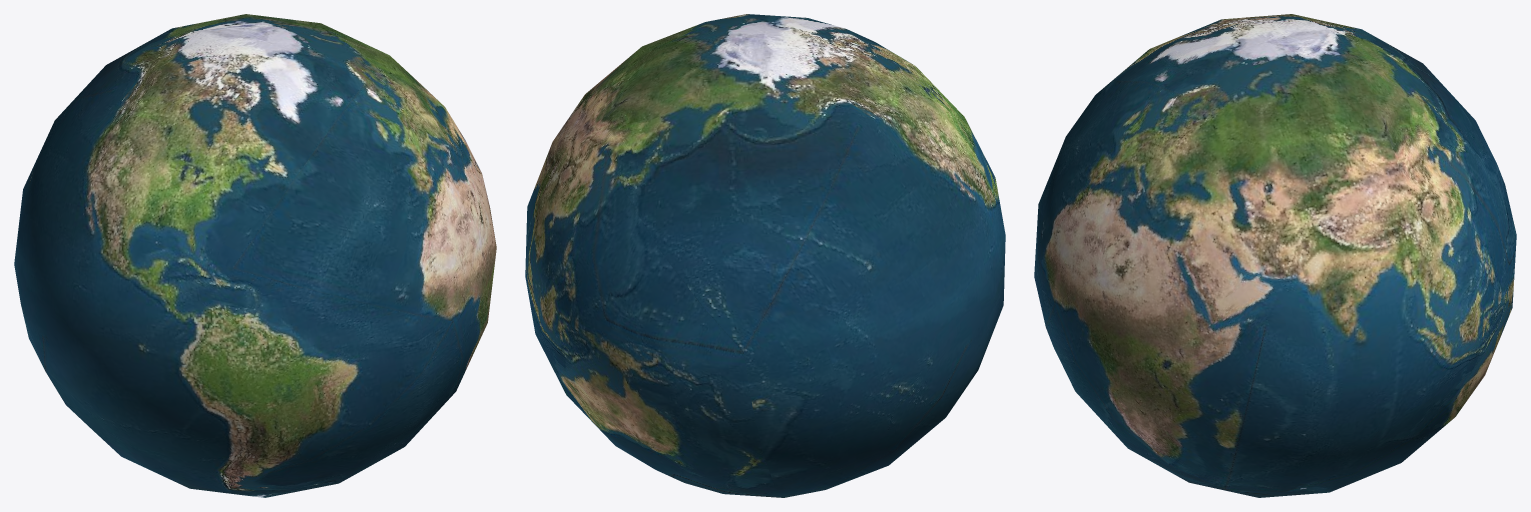
The model's file is globe.dae.
3 views of the same model, side by side, from view 1: azimuth 30°, elevation 25°; view 2: azimuth 150°, elevation 25°; view 3: azimuth 270°, elevation 25° (orthographic).
Visible parts, largest first — view 1: Icosphere; view 2: Icosphere; view 3: Icosphere.
Part boxes in pixels (<box>): Icosphere: <box>14,14,496,497</box>; Icosphere: <box>525,14,1005,497</box>; Icosphere: <box>1034,14,1516,497</box>.
Size of the model in its own units: 1.98 by 1.99 by 1.98.
1 material, 1 textured.
